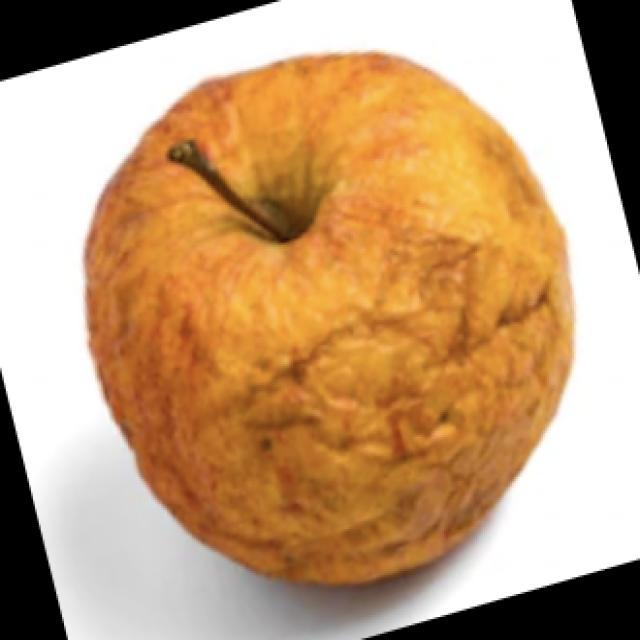Rotten: (81, 52, 576, 568)
